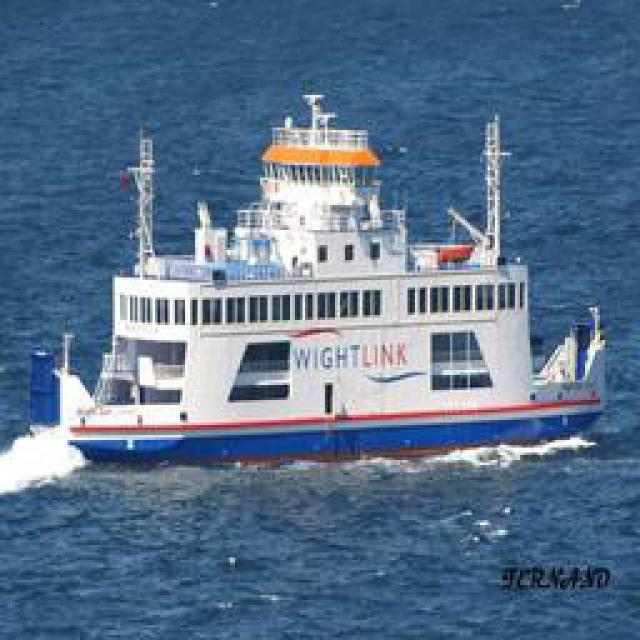Ship: (61, 84, 601, 464)
